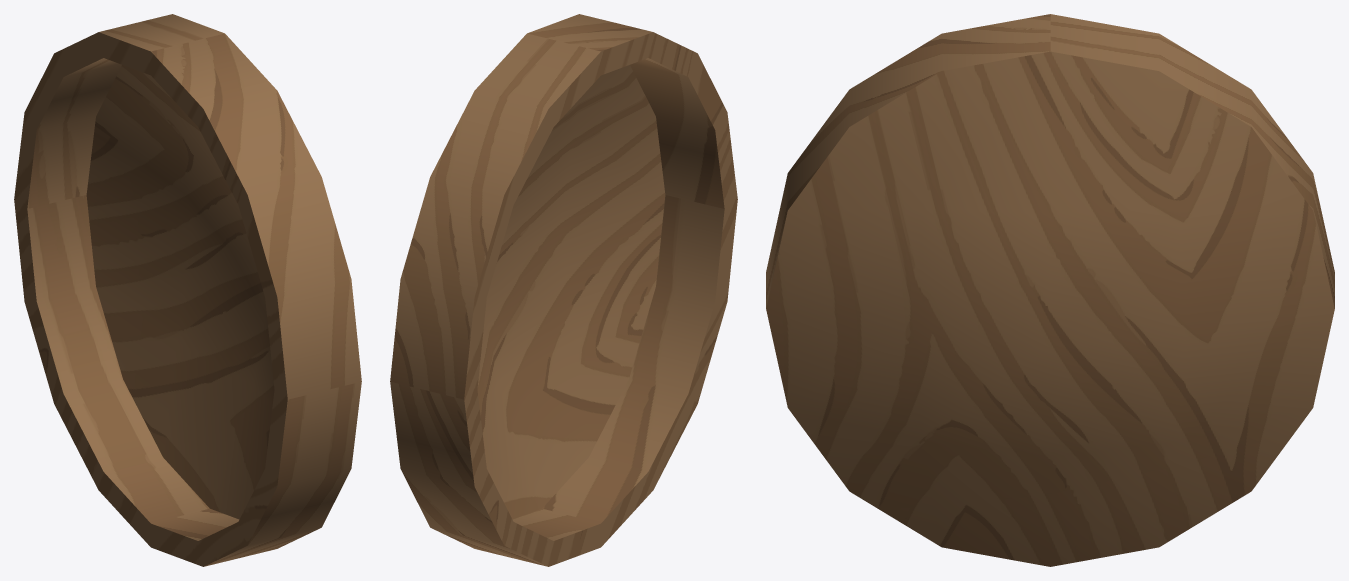
The model's file is ShieldF.fbx.
3 views of the same model, side by side, from view 1: azimuth 30°, elevation 25°; view 2: azimuth 150°, elevation 25°; view 3: azimuth 270°, elevation 25° (orthographic). The views are drawn at different scales.
Parts seen in each view (by area): view 1: Shield F; view 2: Shield F; view 3: Shield F.
Part boxes in pixels (<box>): Shield F: <box>14,14,361,566</box>; Shield F: <box>390,14,737,566</box>; Shield F: <box>766,14,1334,566</box>.
Size of the model in its own units: 0.2474 by 0.8082 by 0.8082.
